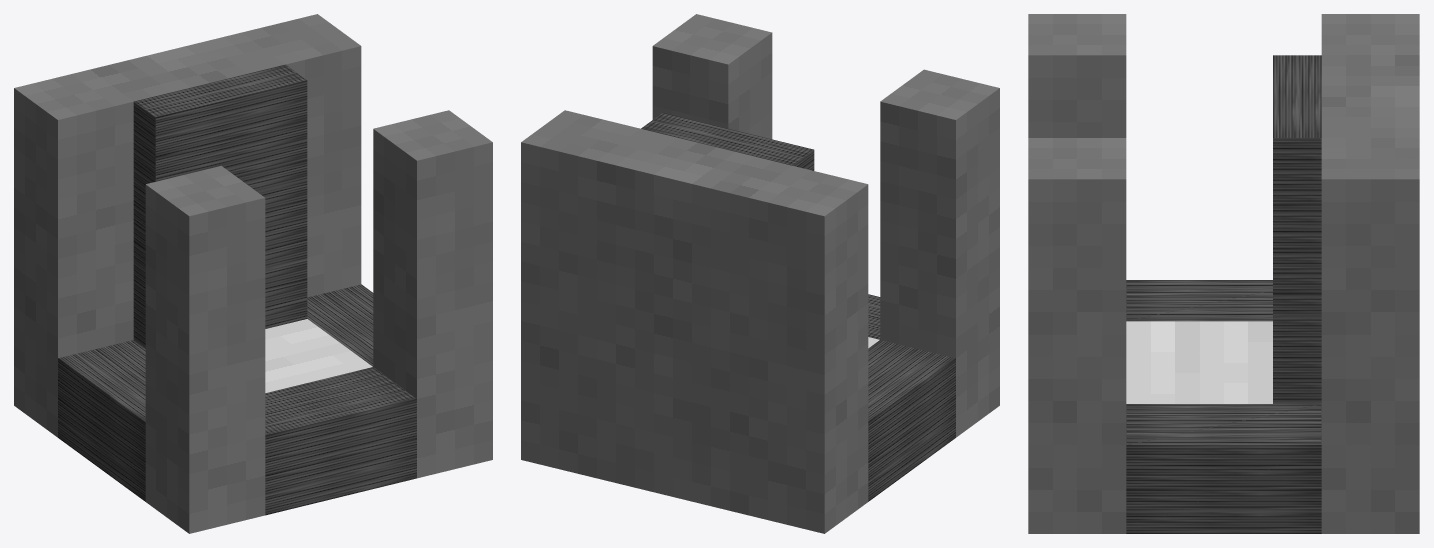
Rendered from conveyor_lift_0.obj.
3 renders of one model, left to right at view 1: azimuth 30°, elevation 25°; view 2: azimuth 150°, elevation 25°; view 3: azimuth 270°, elevation 25°, orthographic. The views are drawn at different scales.
Parts seen in each view (by area): view 1: o1, o3, o2, cvr4, cvr2, cvr3, mid, cvr1; view 2: o1, o3, o2, cvr3, cvr4, cvr2; view 3: o1, o2, cvr1, cvr4, o3, mid, cvr3.
Boxes of the visible parts, <box> form: o1: <box>14,14,361,437</box>; o3: <box>145,165,265,533</box>; o2: <box>373,110,492,478</box>; cvr4: <box>133,64,307,348</box>; cvr2: <box>265,367,416,515</box>; cvr3: <box>58,340,145,501</box>; mid: <box>265,319,372,392</box>; cvr1: <box>307,284,373,366</box>; o1: <box>521,110,868,533</box>; o3: <box>880,69,999,437</box>; o2: <box>652,14,772,139</box>; cvr3: <box>868,340,955,501</box>; cvr4: <box>641,113,814,170</box>; cvr2: <box>868,294,880,339</box>; o1: <box>1321,14,1419,533</box>; o2: <box>1028,138,1126,533</box>; cvr1: <box>1126,404,1321,533</box>; cvr4: <box>1273,55,1321,403</box>; o3: <box>1028,14,1126,137</box>; mid: <box>1126,321,1272,403</box>; cvr3: <box>1126,280,1272,321</box>.
Bounding box in the file's own units: 1 × 1 × 1.
